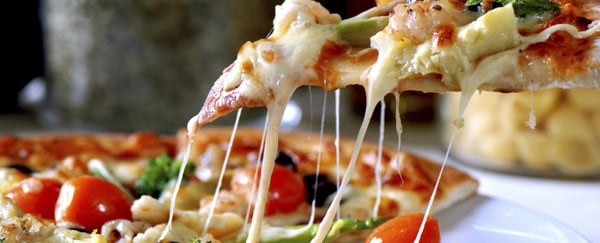sandwich: (0, 130, 186, 238)
